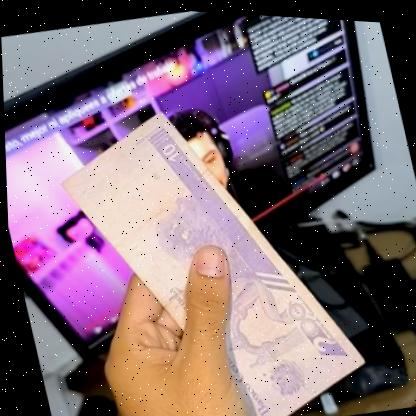vef_back: (40, 74, 377, 416)
